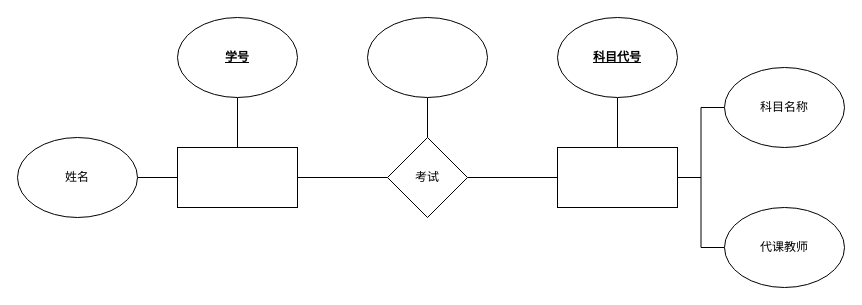
Image size: 862x305. Some labels were removed from this diagram. Here are the shapes that lost their labels. From the top down, the centre of each, then its label:
At pixel 427 57: "分数".
At pixel 237 177: "学生".
At pixel 617 177: "科目".
